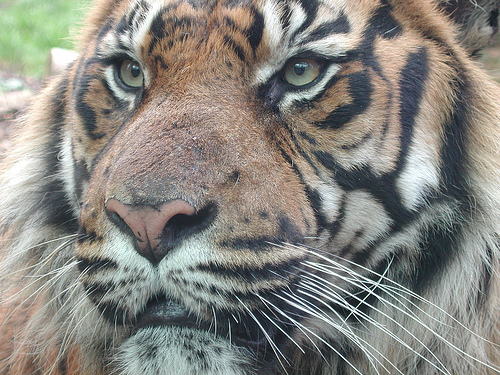Tigre: (28, 2, 487, 364)
